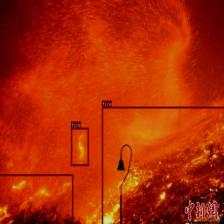fire: (101, 106, 224, 224), (0, 173, 73, 224), (71, 127, 88, 166)
